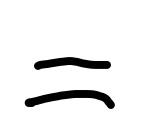eqv: (25, 57, 117, 110)
